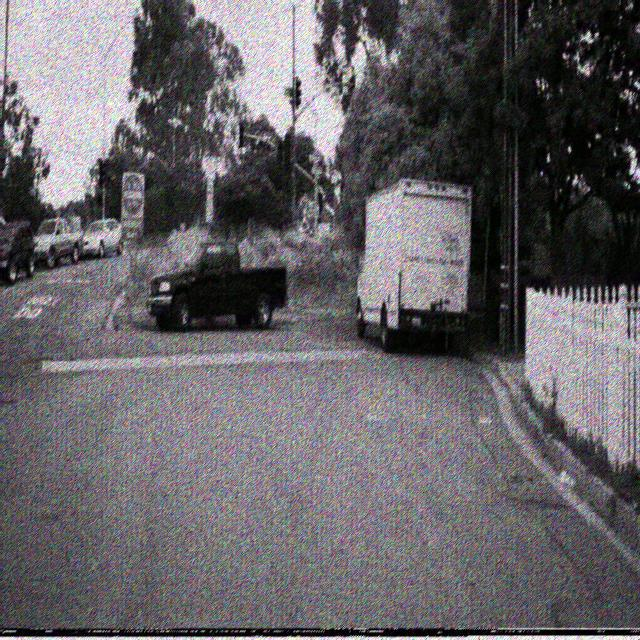doNotEnter: (120, 172, 144, 217)
